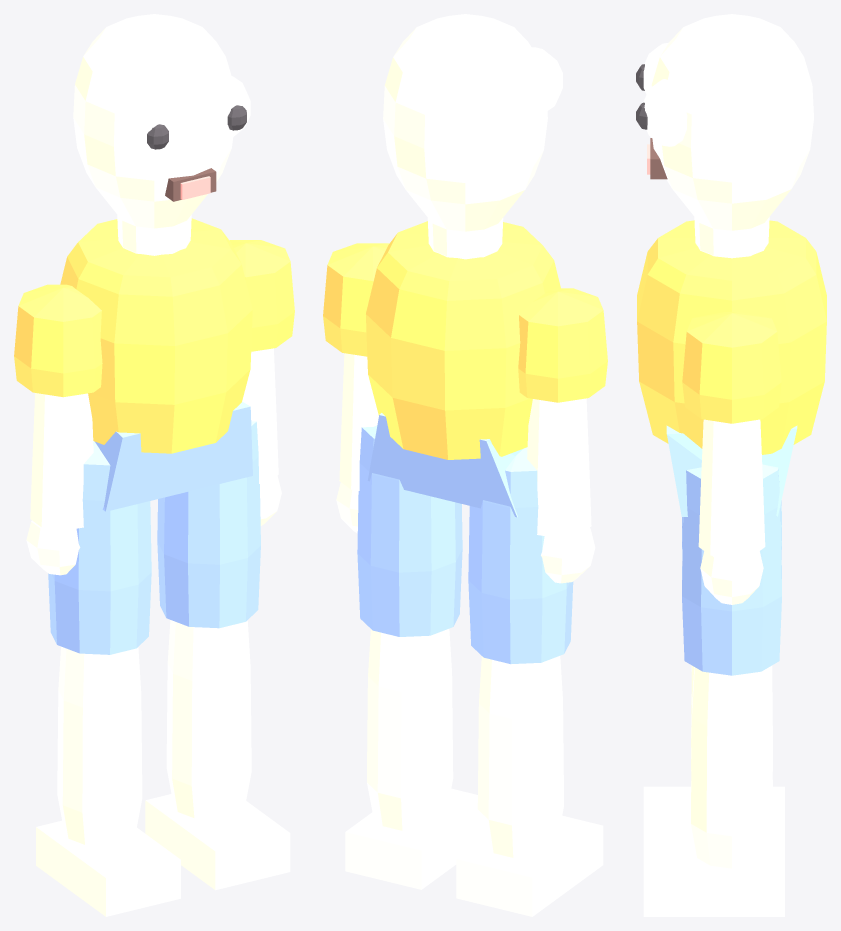
3 views of the same model, side by side, from view 1: azimuth 30°, elevation 25°; view 2: azimuth 150°, elevation 25°; view 3: azimuth 270°, elevation 25° (orthographic).
Parts seen in each view (by area): view 1: Shorts, Shirt, Legs, NeckHead, Feet, Sleeves, Forearms, Eyes, Hands, Pupils, Mouth; view 2: Shorts, Shirt, Legs, NeckHead, Feet, Sleeves, Forearms, Hands, Eyes; view 3: NeckHead, Shirt, Legs, Shorts, Feet, Sleeves, Forearms, Eyes, Hands, Pupils, Mouth.
Boxes of the visible parts, x1,y1,x2,y2 form: Shorts: (48,401,260,654); Shirt: (60,218,252,453); Legs: (57,620,251,845); NeckHead: (73,14,233,255); Feet: (36,794,290,916); Sleeves: (14,240,294,397); Forearms: (30,348,278,530); Eyes: (119,74,250,158); Hands: (26,475,281,575); Pupils: (147,105,246,149); Mouth: (165,168,216,201); Shorts: (357,413,573,664); Shirt: (366,221,560,459); Legs: (367,629,563,857); NeckHead: (383,14,547,259); Feet: (345,788,603,916); Sleeves: (323,243,607,402); Forearms: (339,353,591,537); Hands: (336,482,595,583); Eyes: (532,47,562,110); NeckHead: (651,14,813,258); Shirt: (637,220,826,454); Legs: (691,665,772,868); Shorts: (666,425,797,675); Feet: (643,786,784,916); Sleeves: (682,312,781,423); Forearms: (698,419,765,558); Eyes: (643,42,687,146); Hands: (700,551,763,604); Pupils: (636,64,647,129); Mouth: (650,138,667,179).
Size of the model in its own units: 0.5605 by 1.69 by 0.3442.
